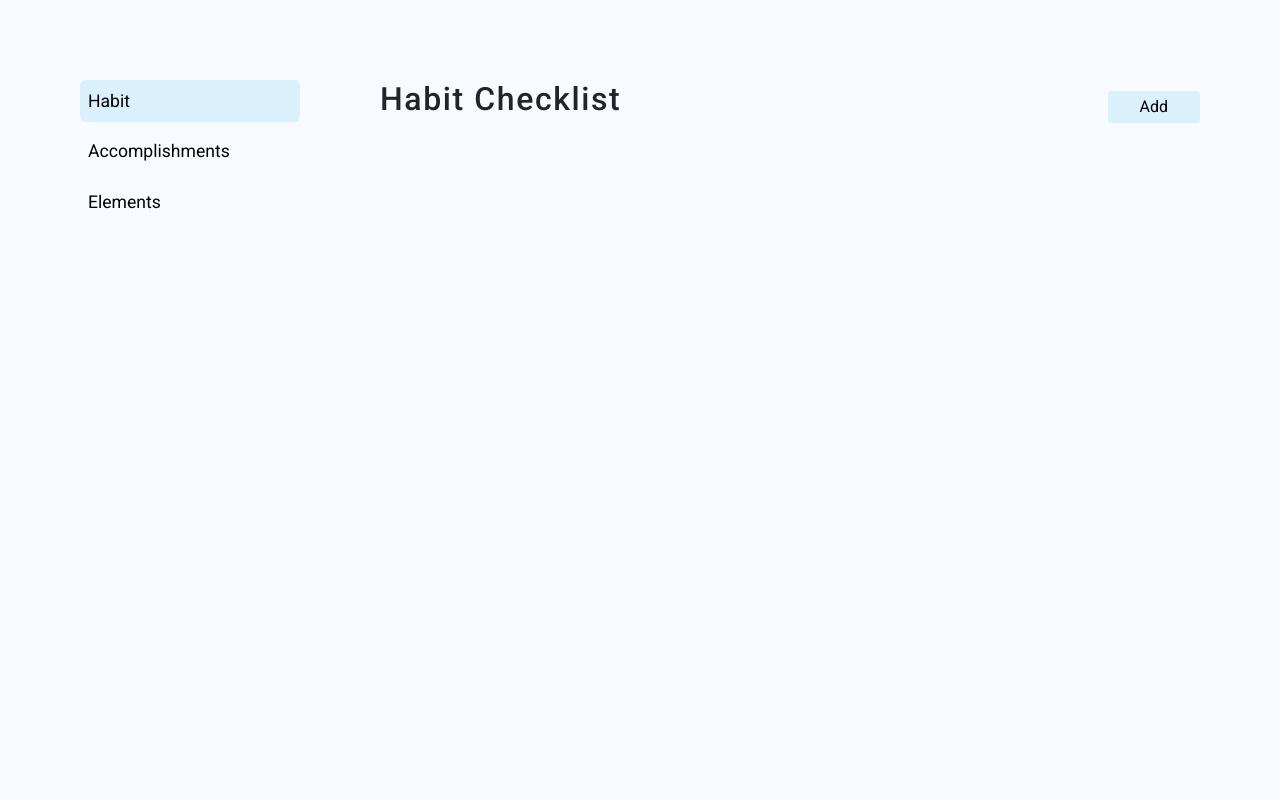
it: habits › Click on the Add button, type in 'Drink 5 glasses of water', click the 'Save Changes' button, 'Drink 5 glasses of water' should be visible
Click the button "Add".
click(1155, 107)  # box x1=1108 y1=91 x2=1201 y2=123
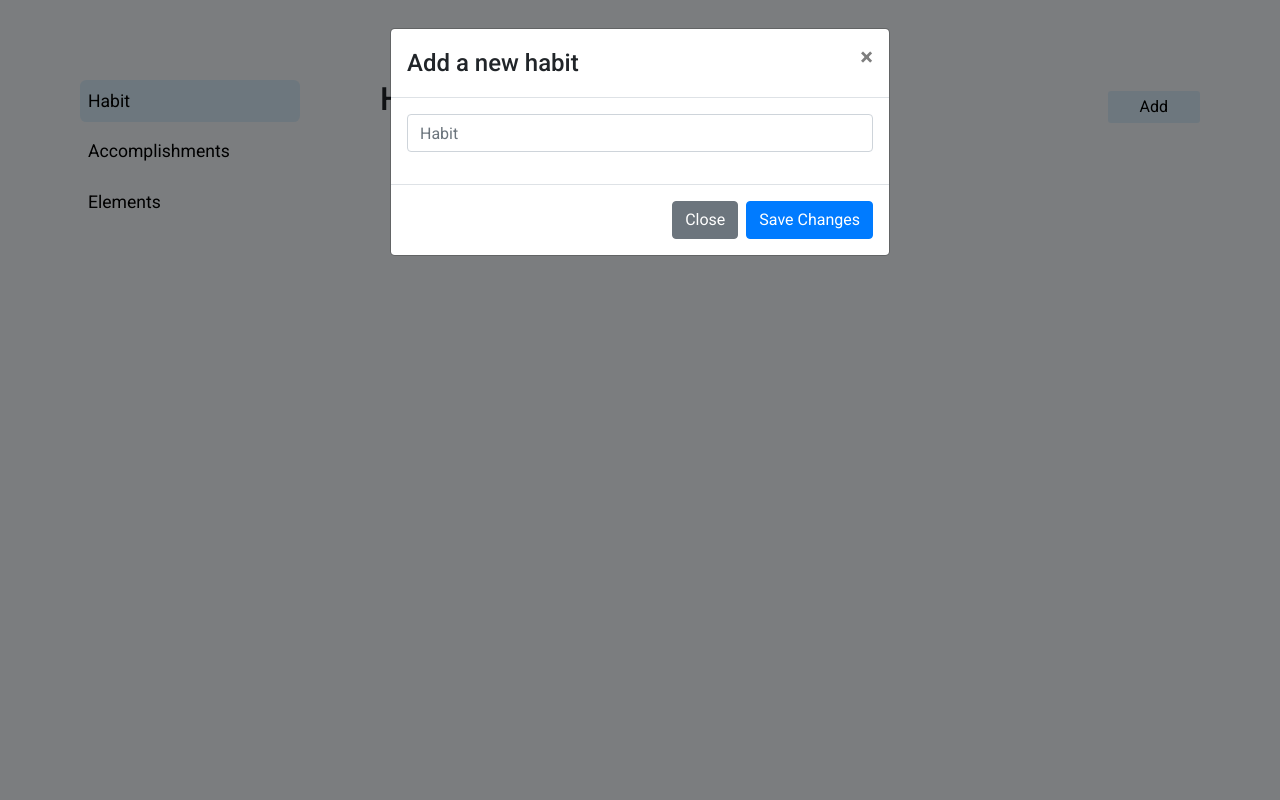
Type "Drink 5 glasses of water" into the field with placeholder "Habit".
click(640, 133); type("Drink 5 glasses of water")  # box x1=407 y1=114 x2=873 y2=152
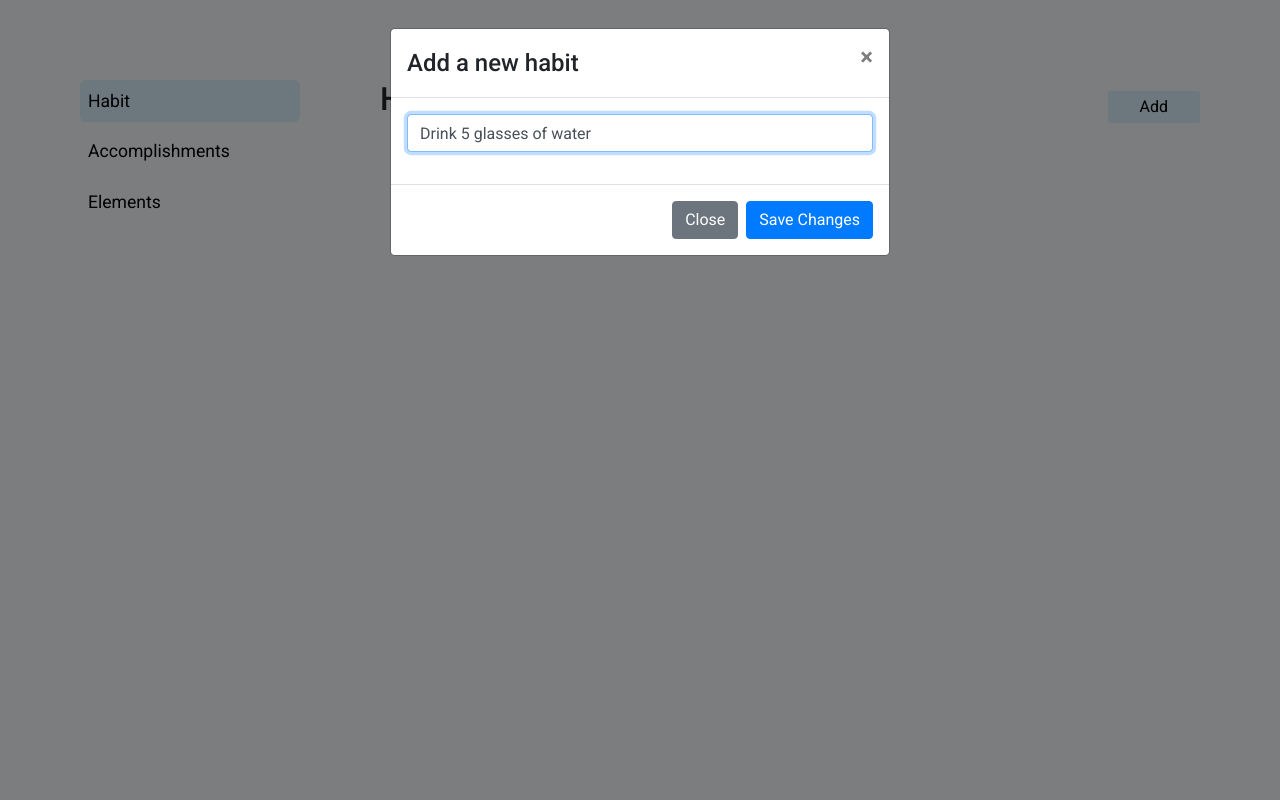
Click the button "Save Changes".
click(810, 220)  # box x1=746 y1=201 x2=873 y2=239
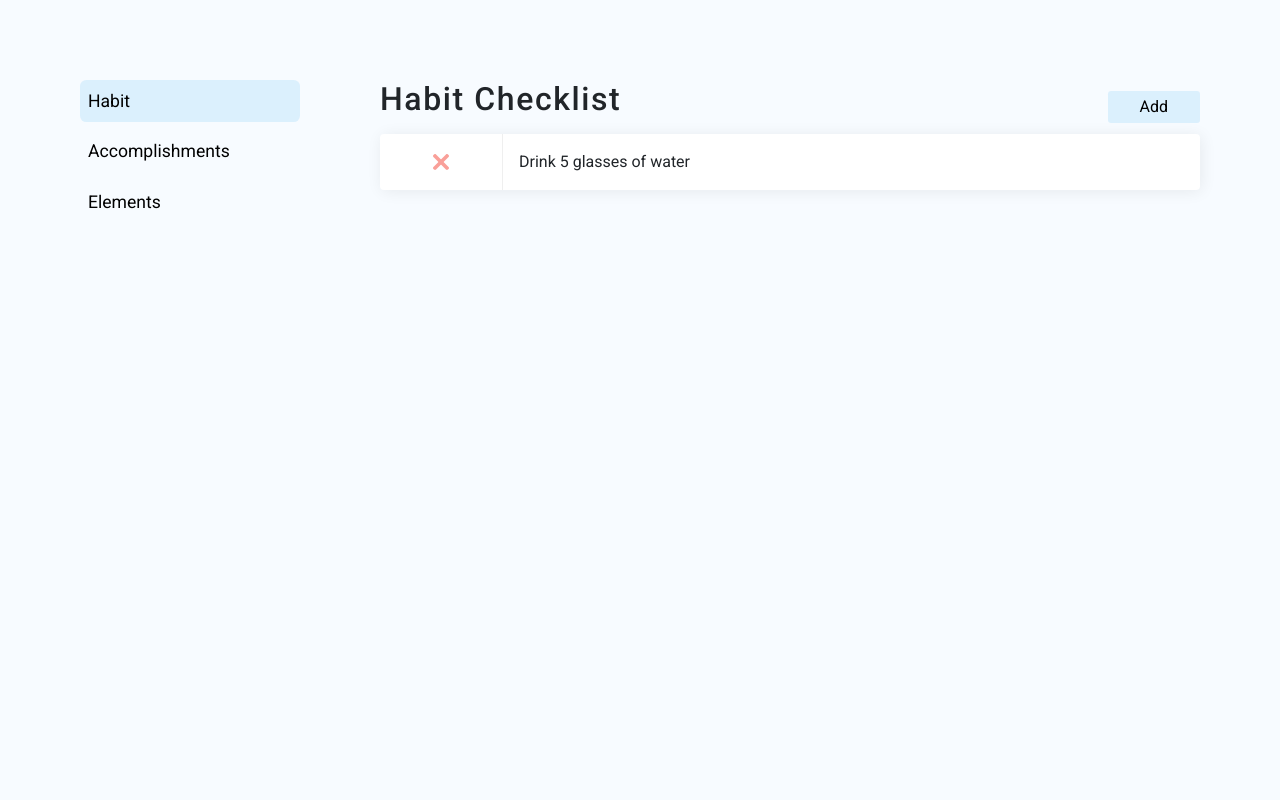
Result: the text "Drink 5 glasses of water" is shown at x1=519 y1=152 x2=690 y2=171
